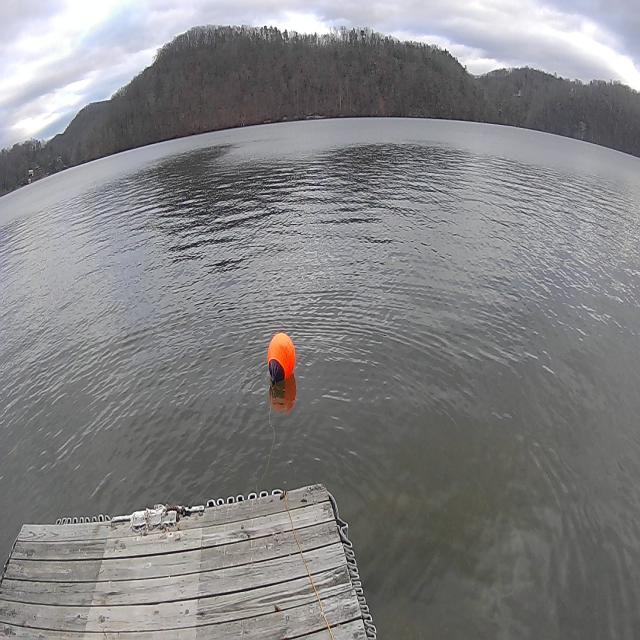Buoy: (266, 329, 298, 394)
